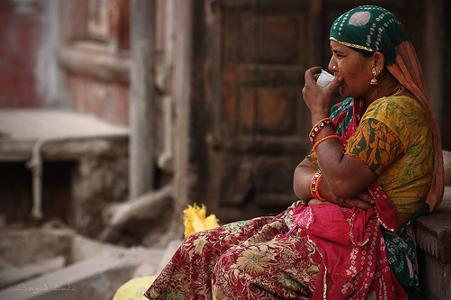person: (148, 5, 446, 300)
